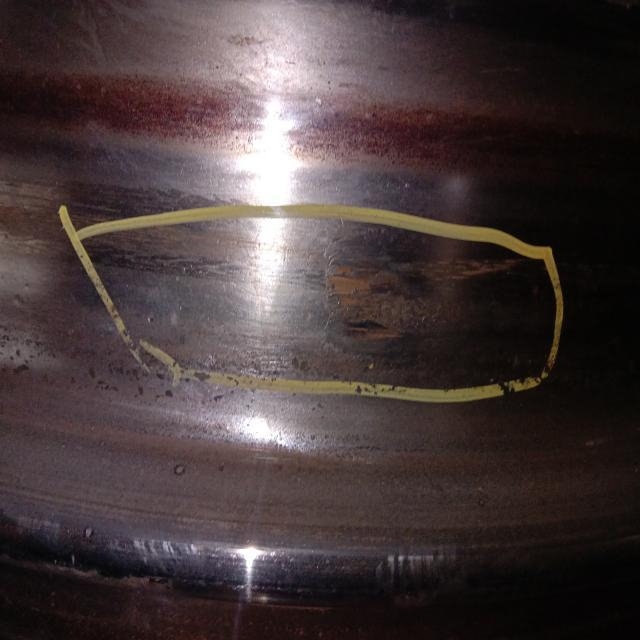flat: (297, 216, 556, 384)
